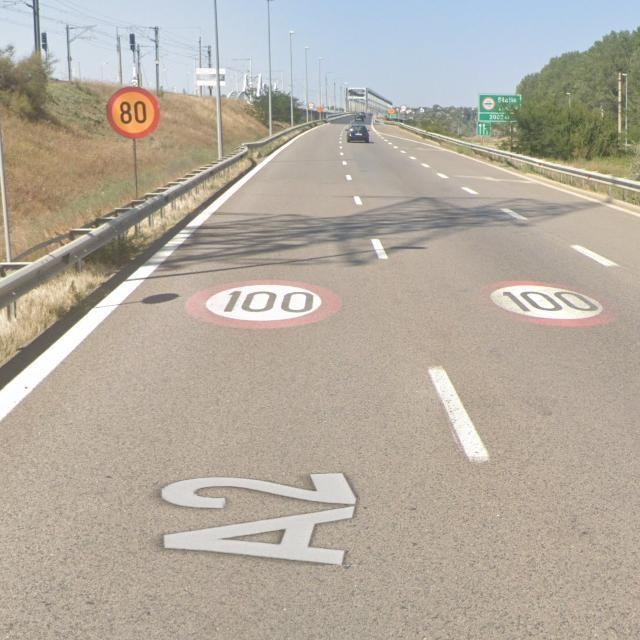forb_speed_over_100: (188, 279, 345, 329), (477, 277, 621, 327)
forb_speed_over_80: (106, 86, 161, 140)
